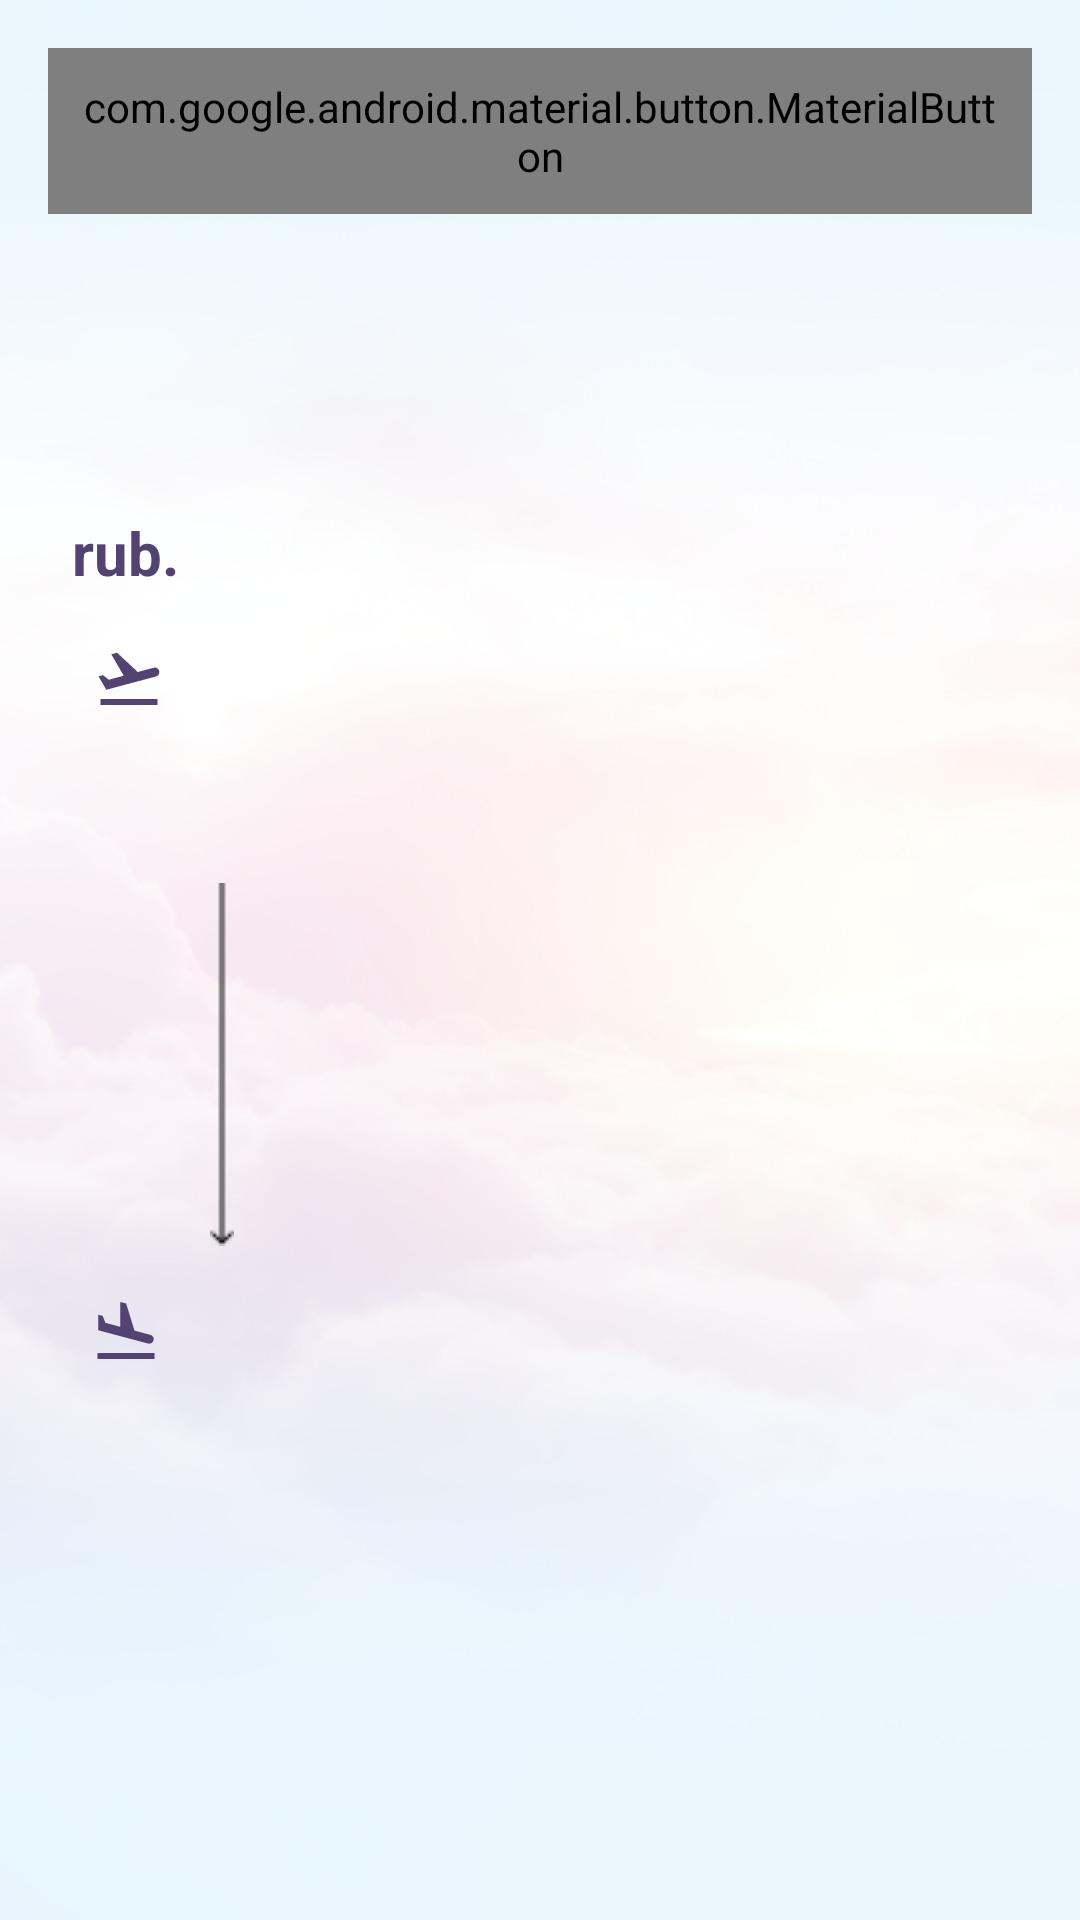

Icons on this 1080px×1920px Android screen, each with the point to tap as point (x, y):
Image arrival: point (126, 1330)
Image departure: point (129, 678)
